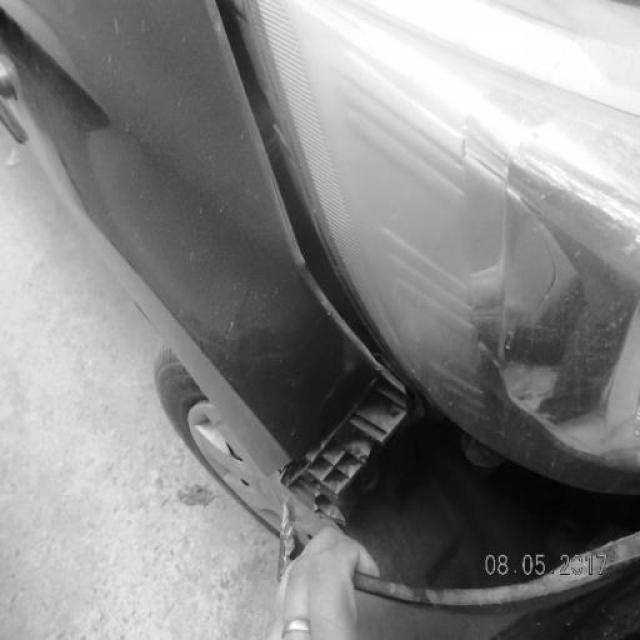misalignment: (281, 395, 640, 612)
